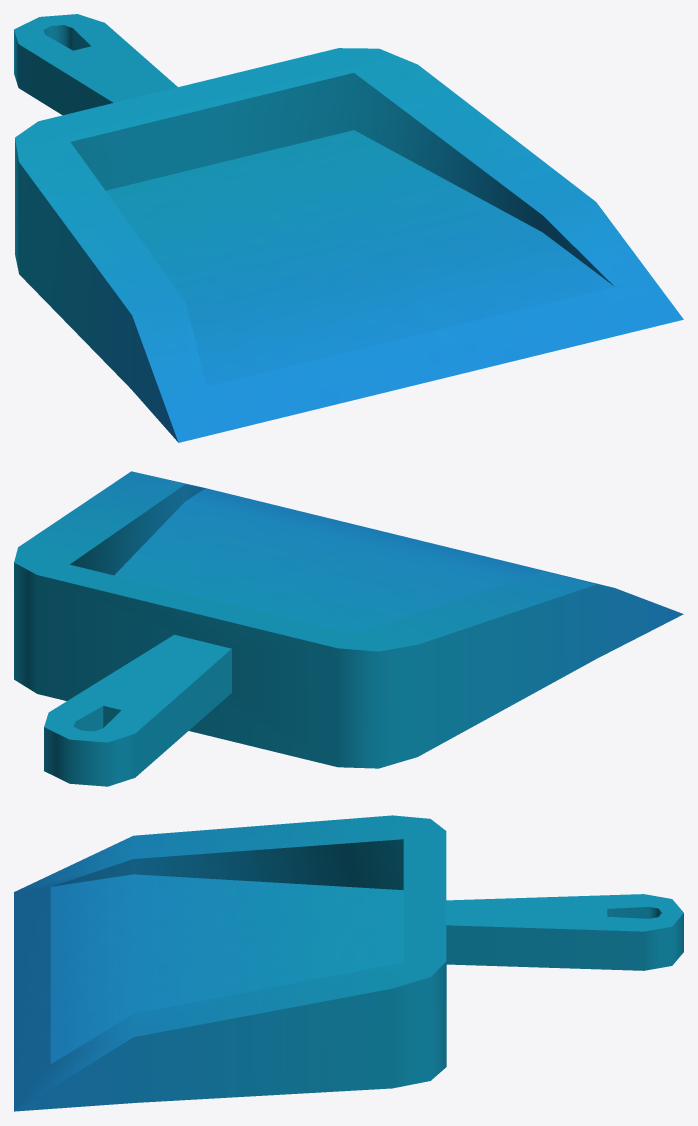
Rendered from SM_Dustpan_1_04.fbx.
3 renders of one model, top to bottom at view 1: azimuth 30°, elevation 25°; view 2: azimuth 150°, elevation 25°; view 3: azimuth 270°, elevation 25°, orthographic. The views are drawn at different scales.
Parts seen in each view (by area): view 1: SM_Dustpan_1_04; view 2: SM_Dustpan_1_04; view 3: SM_Dustpan_1_04.
Part boxes in pixels (left/top/right/bottom): SM_Dustpan_1_04: left=14, top=14, right=683, bottom=442; SM_Dustpan_1_04: left=14, top=471, right=683, bottom=786; SM_Dustpan_1_04: left=14, top=815, right=683, bottom=1111.
Bounding box in the file's own units: 25.56 × 5.74 × 32.99.
